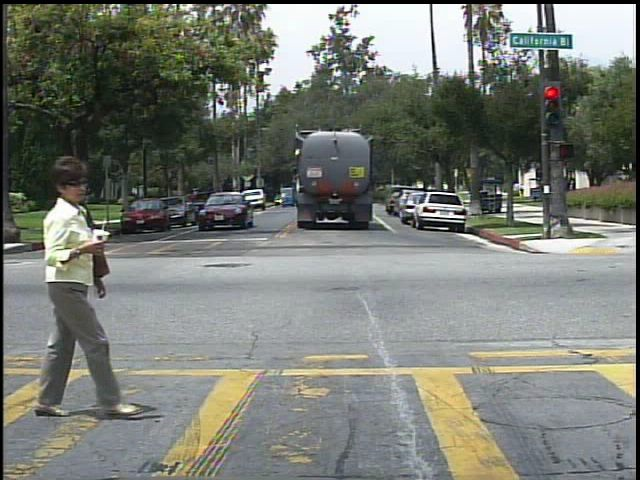person: (27, 150, 108, 422), (564, 172, 582, 204), (517, 180, 530, 200)
